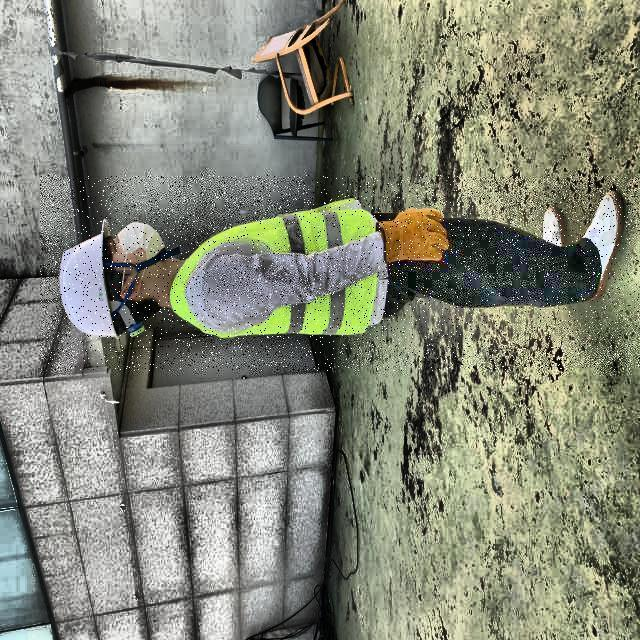safety_helmet: (49, 217, 124, 350)
safety_jacket: (165, 192, 382, 345)
